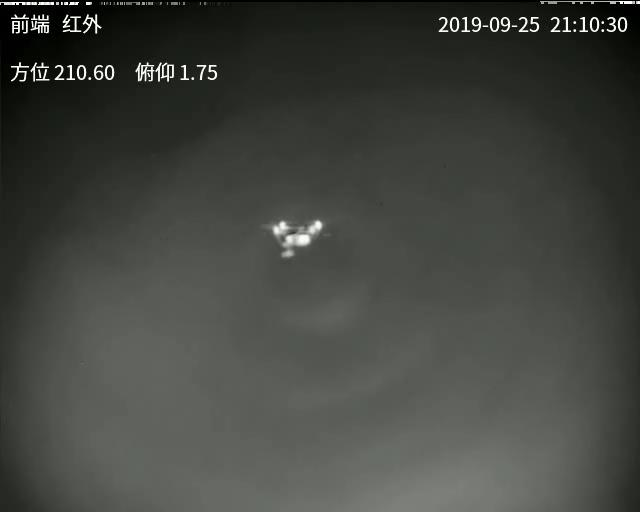uav: (267, 218, 324, 260)
